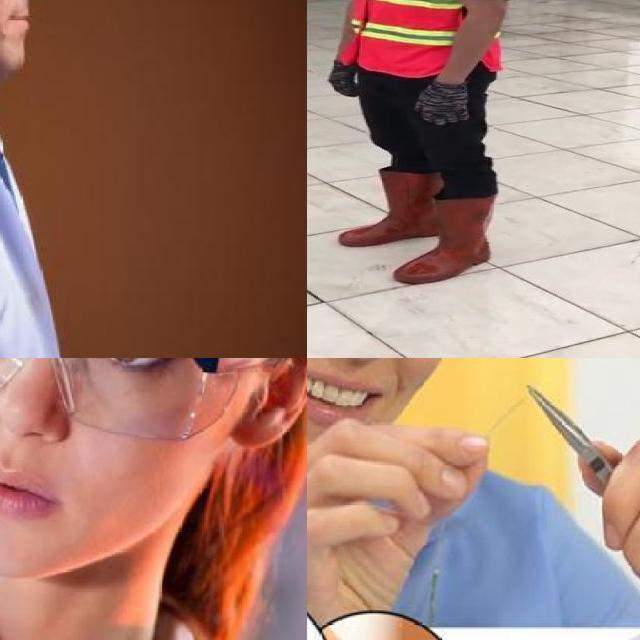No_Ear-Protection: (231, 358, 307, 447)
boots: (389, 198, 505, 286), (336, 169, 440, 248)
face_nomask: (0, 358, 180, 525), (307, 358, 471, 418), (0, 0, 51, 48)
glasses: (0, 358, 289, 446)
hand_noglove: (307, 415, 495, 578), (570, 423, 640, 626)
person: (312, 0, 527, 289), (0, 0, 62, 358)
vest: (337, 0, 526, 80)
